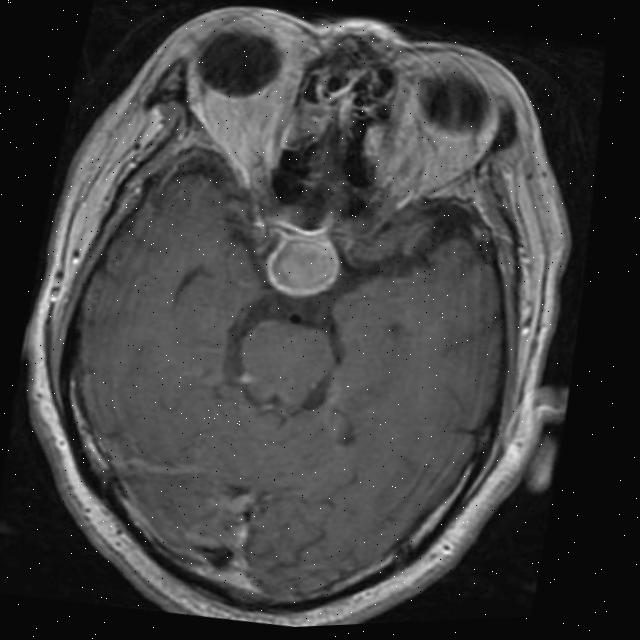Pituitary: (261, 231, 343, 303)
